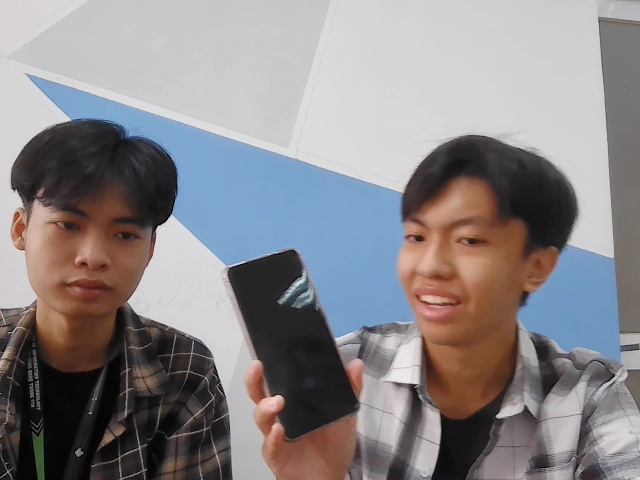human: (399, 139, 573, 350), (9, 122, 179, 319)
phone: (225, 250, 365, 441)
